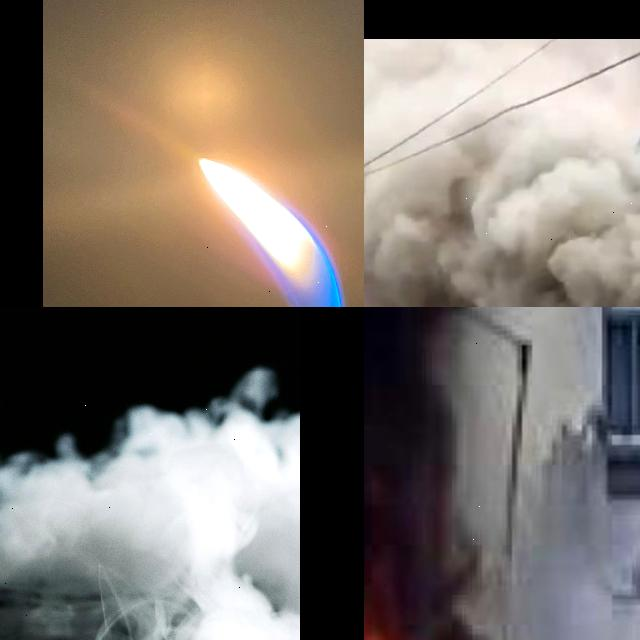fire: (201, 159, 343, 307)
smoke: (0, 372, 300, 640), (364, 307, 480, 640), (453, 158, 640, 307), (472, 38, 614, 106)
